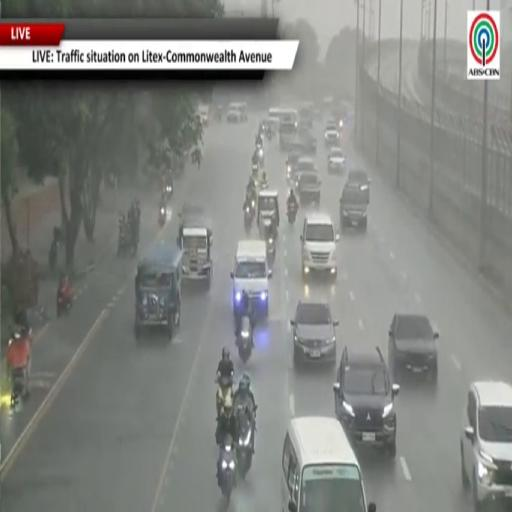car: (333, 346, 399, 457), (460, 381, 512, 512), (388, 313, 438, 383), (291, 299, 338, 365), (301, 213, 339, 279), (340, 187, 368, 231), (297, 171, 321, 205), (345, 169, 370, 200), (295, 155, 317, 187), (297, 124, 317, 154), (286, 149, 302, 182), (328, 147, 345, 173), (324, 120, 339, 147), (227, 103, 247, 123), (298, 106, 314, 129), (198, 105, 209, 126)
jeepney: (135, 242, 182, 339), (177, 206, 212, 286)
motorcycle: (6, 330, 31, 407), (237, 405, 255, 478), (218, 437, 236, 505), (236, 315, 253, 363), (216, 374, 233, 421), (117, 222, 137, 255), (263, 218, 275, 265), (57, 287, 73, 317), (49, 238, 58, 271), (267, 236, 275, 266), (245, 206, 253, 233), (288, 204, 297, 225), (158, 206, 166, 227), (164, 183, 173, 200), (257, 147, 264, 168), (265, 128, 272, 140), (252, 164, 258, 177), (261, 181, 268, 189)
